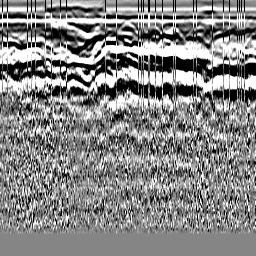cavity: (116, 18, 137, 38)
